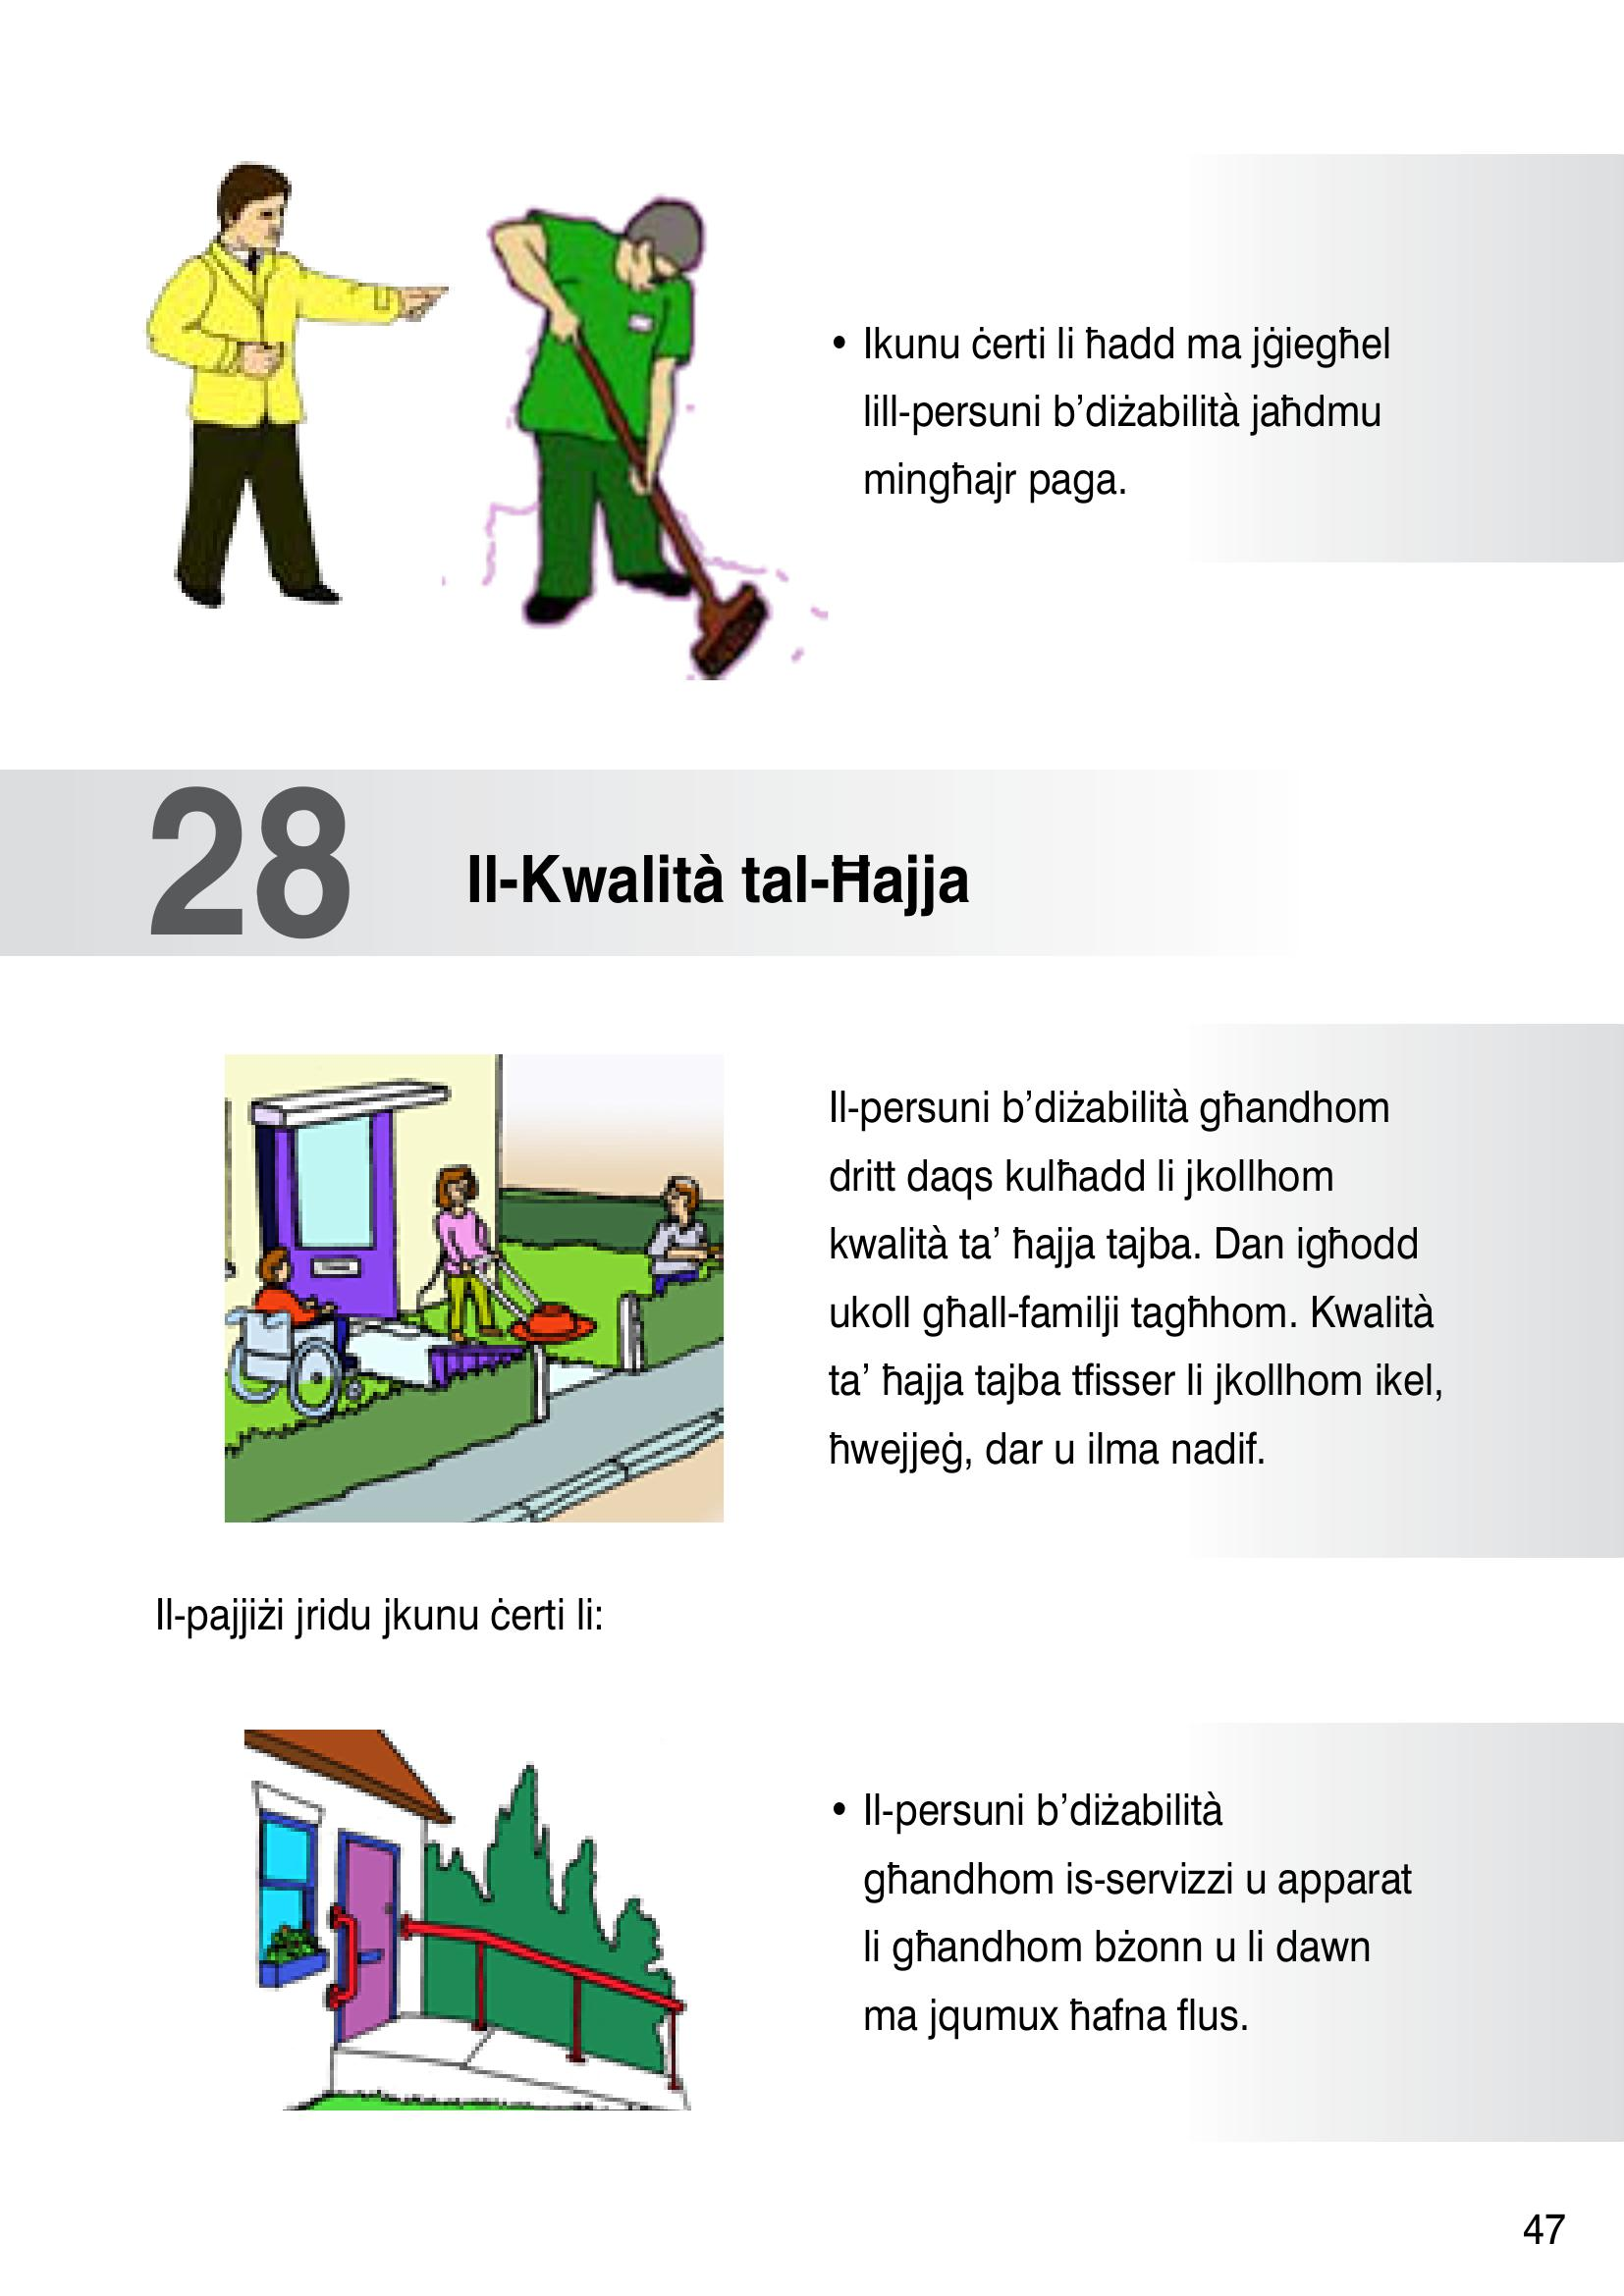text: (807, 1066, 1475, 1491), (801, 1758, 1450, 2073), (128, 773, 993, 945), (801, 286, 1441, 516), (116, 1581, 626, 1646)
